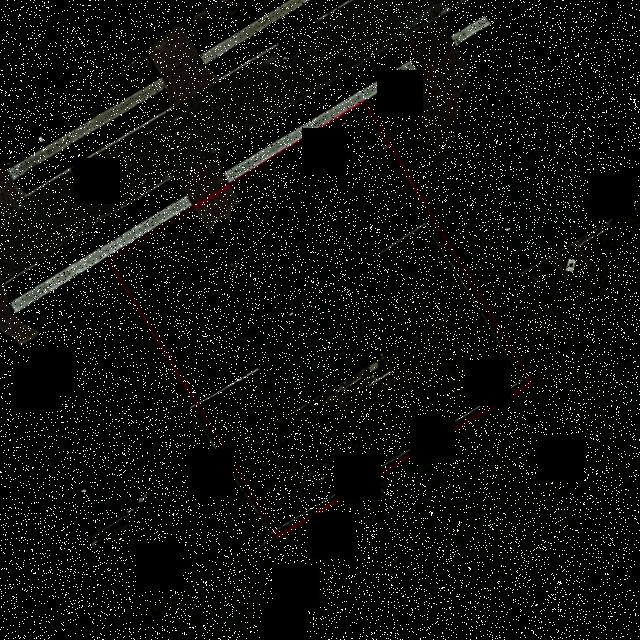Driveway: (195, 187, 263, 262)
Extra Driveway: (171, 152, 227, 204)
Extra Lawn: (218, 73, 356, 171), (88, 180, 185, 246)
Extra Sidewalk: (222, 91, 363, 181), (99, 193, 191, 258)
House: (218, 212, 387, 409)
